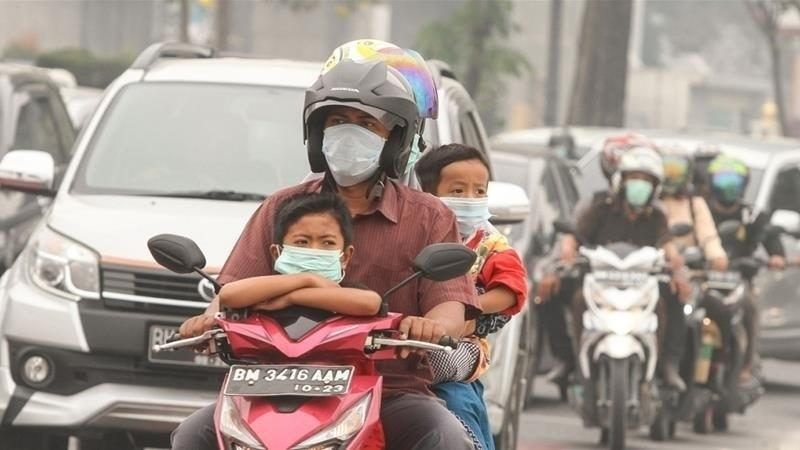mask: (320, 122, 388, 187), (272, 243, 346, 283), (437, 195, 491, 236), (710, 170, 744, 203), (623, 177, 655, 208)
